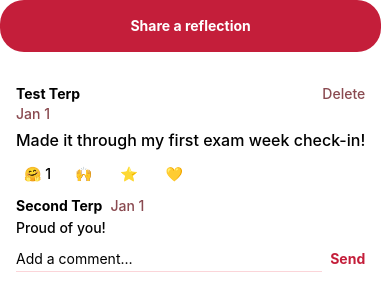
FeedTab › shows Delete only on my own post and removes it on press
Expected: the text "Made it through my first exam week check-in!" is shown, [16,128,365,152]
What coordinates should you click on to do the following:
click the text "Delete"
I would click on:
 (344, 94)
Its box is [322,84,365,104].
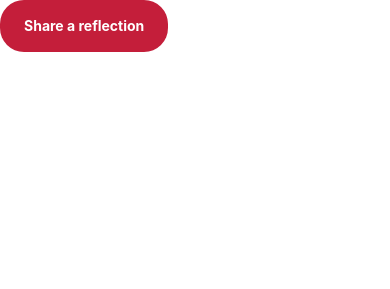
Expected: the text "Made it through my first exam week check-in!" is gone
